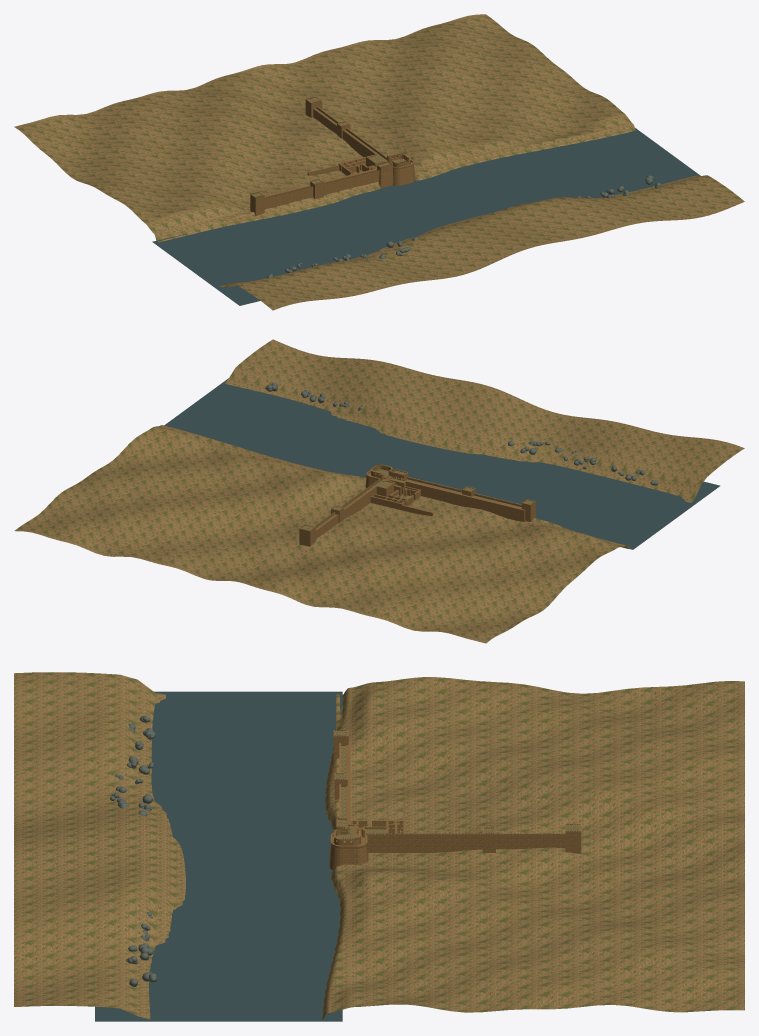
File: bashtapia_castle.glb
3 views of the same model, one above another, from view 1: azimuth 30°, elevation 25°; view 2: azimuth 150°, elevation 25°; view 3: azimuth 270°, elevation 25° (orthographic). The views are drawn at different scales.
Visible parts, largest first — view 1: Terrain_Ground, Tigris_River_Plane, South_Curtain_Ext_Outer, Tigris_FarBank_Trees, East_Curtain_Ext_Body; view 2: Terrain_Ground, Tigris_River_Plane, South_Curtain_Ext_Inner, Tigris_FarBank_Trees, East_Curtain_Ext_Body; view 3: Terrain_Ground, Tigris_River_Plane, East_Curtain_Ext_Body, Tigris_FarBank_Trees, Bastion_Lower_Tower, East_Curtain_Wall_Body.
Boxes of the visible parts, box(x1,y1,x2,y2) form: Terrain_Ground: box(14, 14, 744, 310); Tigris_River_Plane: box(152, 128, 700, 305); South_Curtain_Ext_Outer: box(264, 176, 358, 208); Tigris_FarBank_Trees: box(267, 175, 661, 277); East_Curtain_Ext_Body: box(313, 109, 369, 157); Terrain_Ground: box(14, 339, 744, 643); Tigris_River_Plane: box(164, 378, 720, 549); South_Curtain_Ext_Inner: box(425, 485, 525, 521); Tigris_FarBank_Trees: box(265, 382, 658, 485); East_Curtain_Ext_Body: box(316, 493, 367, 538); Terrain_Ground: box(14, 672, 744, 1019); Tigris_River_Plane: box(95, 691, 342, 1021); East_Curtain_Ext_Body: box(414, 837, 565, 852); Tigris_FarBank_Trees: box(110, 715, 157, 986); Bastion_Lower_Tower: box(329, 833, 368, 870); East_Curtain_Wall_Body: box(367, 837, 413, 852).
Bounding box in the file's own units: 530 × 25.49 × 496.
Materials: 14 (4 with a texture image).
